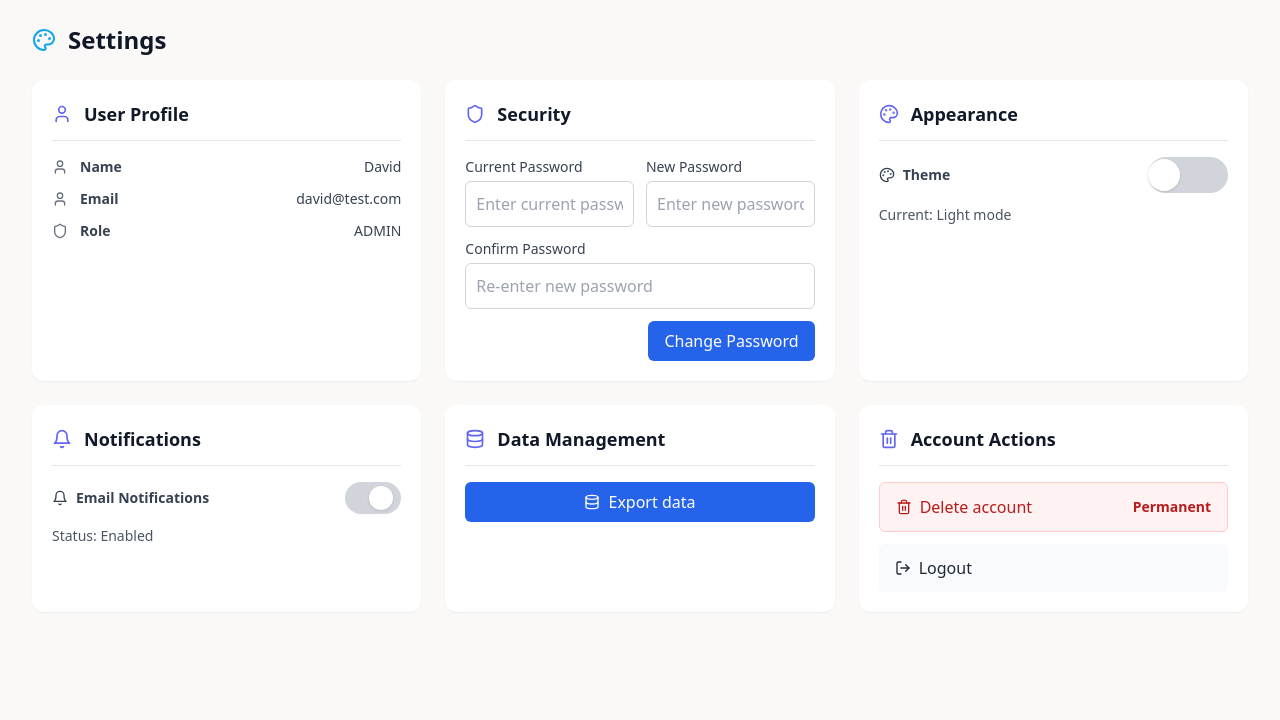
SettingsPage › opens delete confirmation modal
The image size is (1280, 720).
Expected: the heading "Settings" is shown, [68,24,166,56]
Click the button labelled "Delete account Permanent" at (976, 507), box [879,482,1228,532]
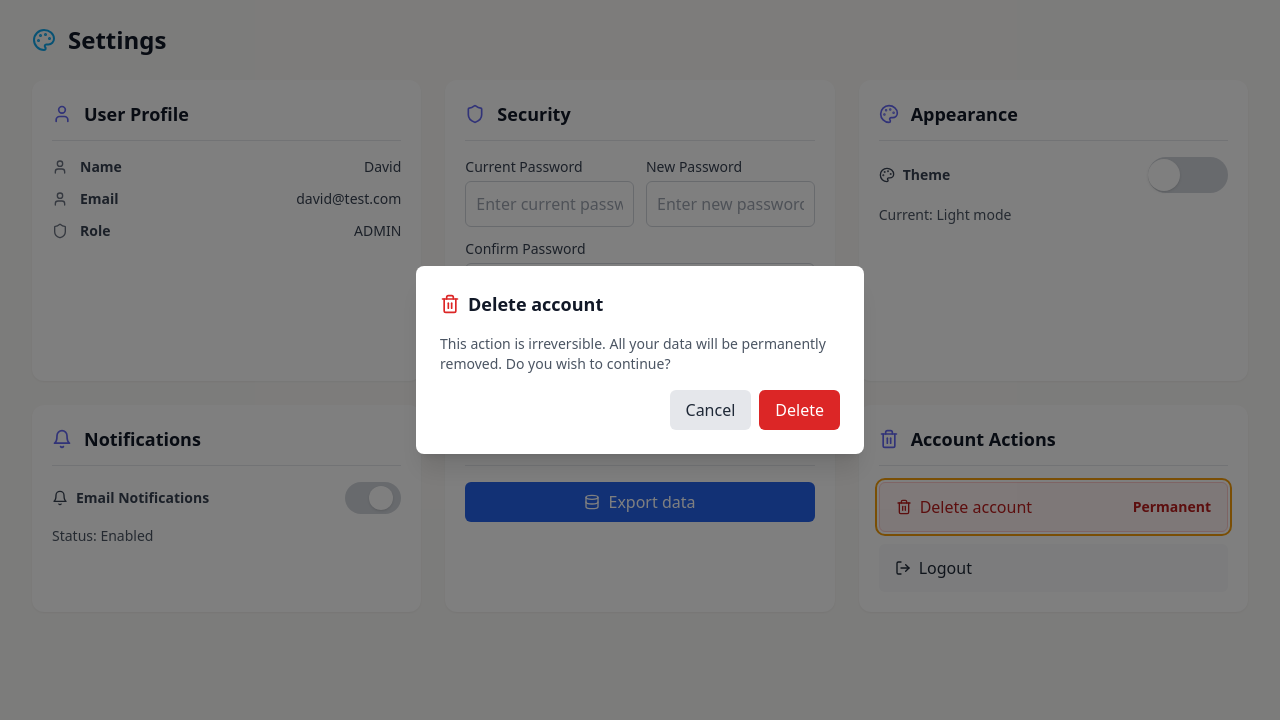
Expected: the text "This action is irreversible. All your data will be permanently removed. Do you wish to continue?" is shown, [440,334,826,373]
